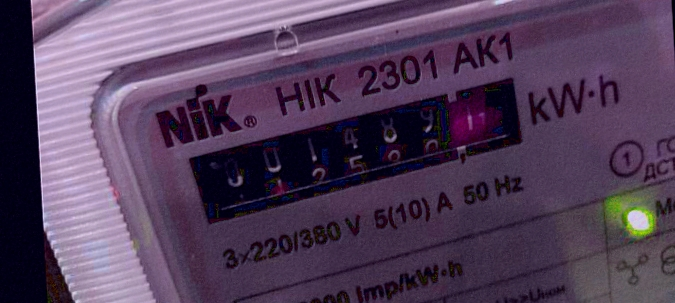0: (257, 138, 285, 176), (220, 154, 246, 191)
1: (458, 96, 479, 135), (301, 132, 323, 164)
4: (338, 120, 362, 152)
8: (378, 110, 401, 147)
9: (416, 102, 438, 135)
screen: (173, 66, 556, 237)
